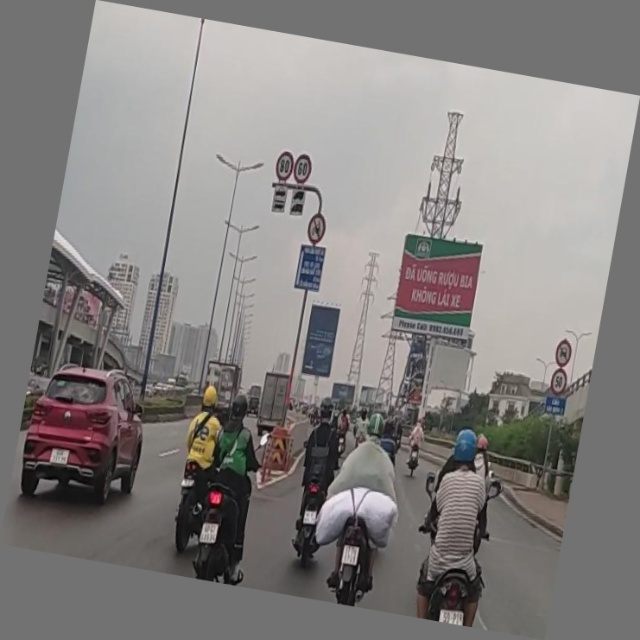P.103a: (553, 334, 573, 366)
P.104: (305, 212, 329, 243)
P.127*50: (549, 370, 568, 399)
P.127*60: (291, 153, 313, 186)
P.127*80: (273, 148, 297, 182)
